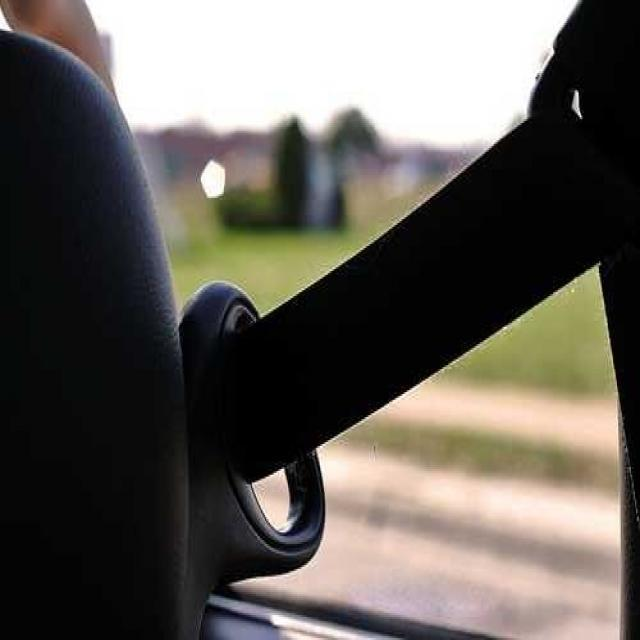seatbelt: (216, 32, 608, 562)
